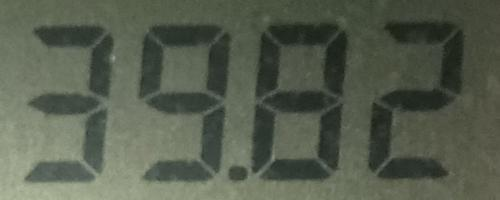.: (225, 161, 252, 187)
